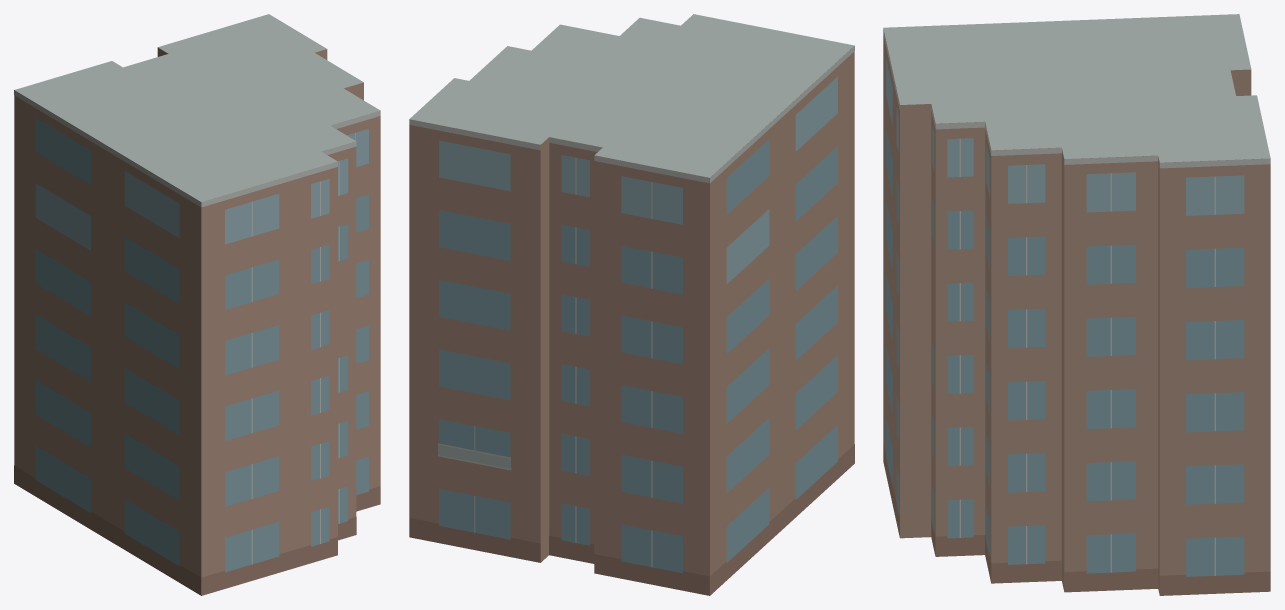
Rendered from survey-upis-33043011.glb.
The picture shows the model from 3 angles, left to right: view 1: azimuth 30°, elevation 25°; view 2: azimuth 150°, elevation 25°; view 3: azimuth 270°, elevation 25°; orthographic projection. The views are drawn at different scales.
Visible parts, largest first — view 1: survey-upis-33043011.tmp; view 2: survey-upis-33043011.tmp; view 3: survey-upis-33043011.tmp.
Boxes of the visible parts, left/top/right/bottom form: survey-upis-33043011.tmp: left=14, top=14, right=380, bottom=595; survey-upis-33043011.tmp: left=409, top=14, right=854, bottom=595; survey-upis-33043011.tmp: left=883, top=14, right=1270, bottom=595.
Bounding box in the file's own units: 13.48 × 18.3 × 14.84.
